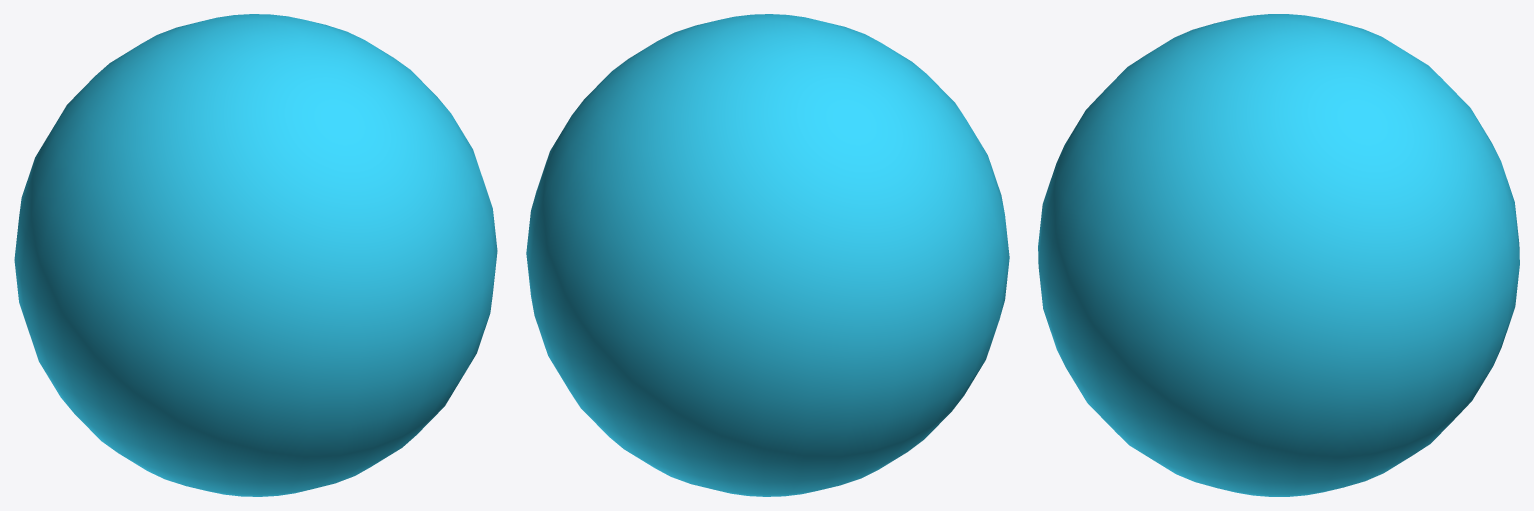
3 renders of one model, left to right at view 1: azimuth 30°, elevation 25°; view 2: azimuth 150°, elevation 25°; view 3: azimuth 270°, elevation 25°, orthographic.
Visible parts, largest first — view 1: Sphere048; view 2: Sphere048; view 3: Sphere048.
Boxes of the visible parts, left/top/right/bottom form: Sphere048: left=14, top=14, right=497, bottom=496; Sphere048: left=526, top=14, right=1009, bottom=496; Sphere048: left=1038, top=14, right=1519, bottom=496.
Bounding box in the file's own units: 8.19 × 8.22 × 8.19.
